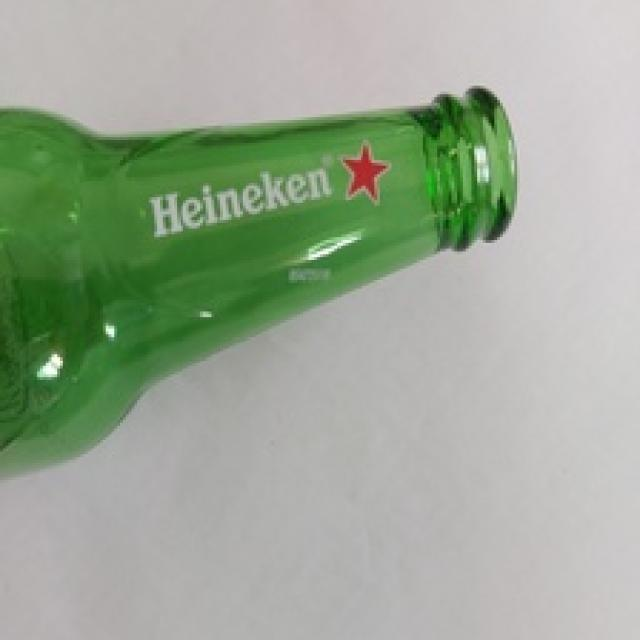Glass: (0, 84, 519, 480)
